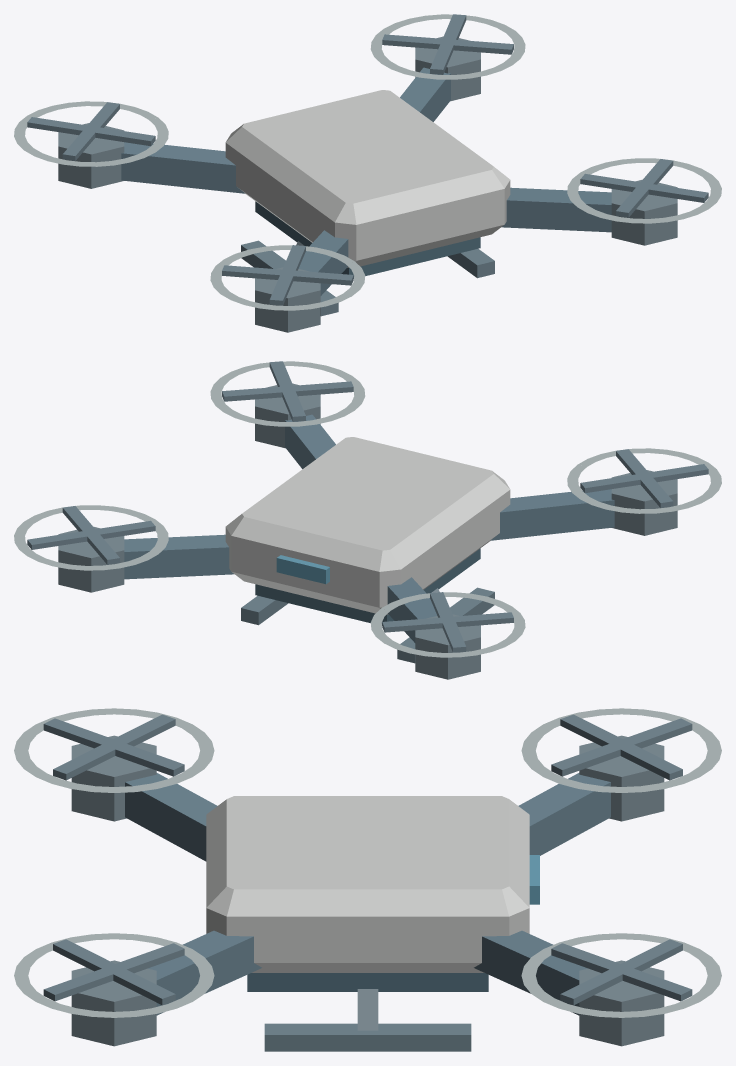
The model's file is droneEco.glb.
3 renders of one model, top to bottom at view 1: azimuth 30°, elevation 25°; view 2: azimuth 150°, elevation 25°; view 3: azimuth 270°, elevation 25°, orthographic. The views are drawn at different scales.
Parts seen in each view (by area): view 1: droneEco; view 2: droneEco; view 3: droneEco.
Boxes of the visible parts, box(x1,y1,x2,y2) form: droneEco: box(14, 14, 721, 332); droneEco: box(14, 361, 721, 679); droneEco: box(14, 708, 721, 1051).
Bounding box in the file's own units: 3.58 × 0.8359 × 3.46.
